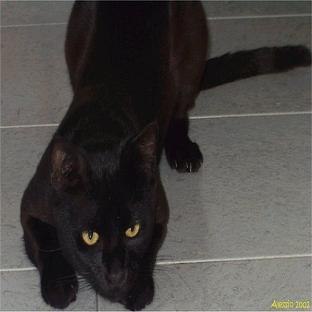Animal: (21, 1, 311, 308)
